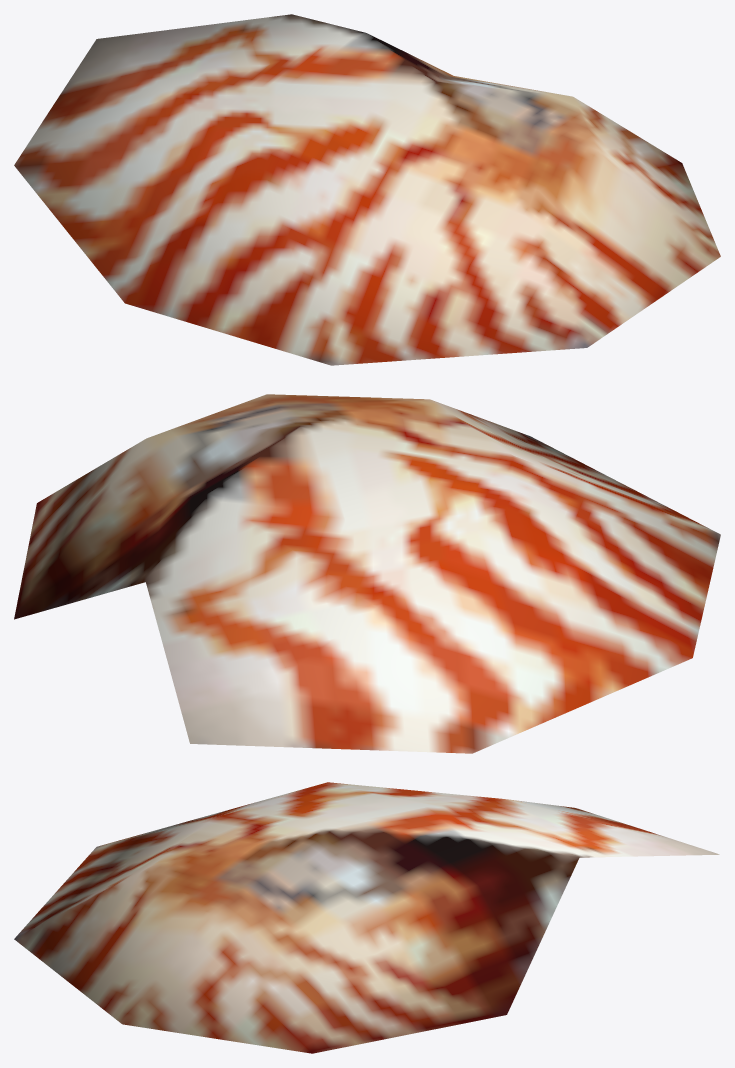
Rendered from S_Build_Sea027_A1.FBX.
3 renders of one model, top to bottom at view 1: azimuth 30°, elevation 25°; view 2: azimuth 150°, elevation 25°; view 3: azimuth 270°, elevation 25°, orthographic. The views are drawn at different scales.
Visible parts, largest first — view 1: S_Build_Sea027_A1; view 2: S_Build_Sea027_A1; view 3: S_Build_Sea027_A1.
Boxes of the visible parts, <box> form: S_Build_Sea027_A1: <box>14,14,720,365</box>; S_Build_Sea027_A1: <box>14,394,720,753</box>; S_Build_Sea027_A1: <box>14,782,719,1053</box>.
Bounding box in the file's own units: 78.45 × 17.51 × 94.91.
1 material, 1 textured.
